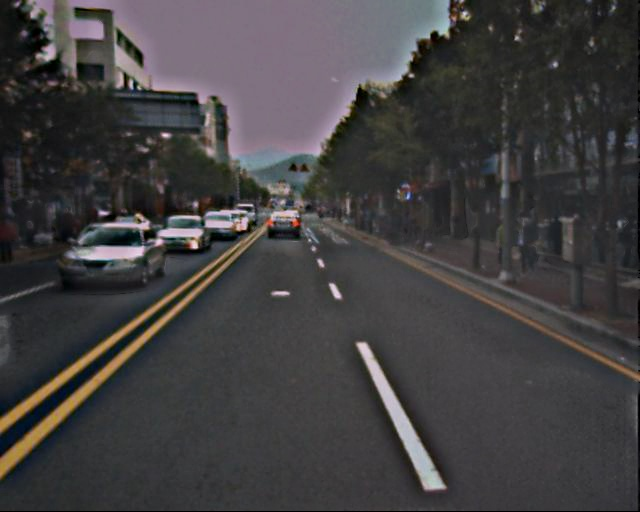person: (511, 212, 536, 273), (491, 219, 510, 266), (547, 211, 565, 254)
